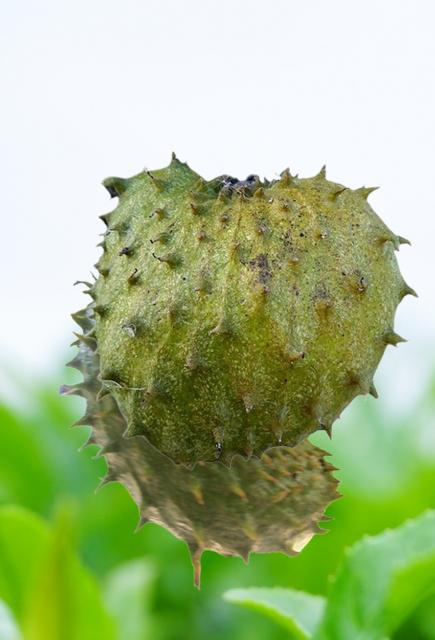guyabano: (81, 149, 418, 469), (58, 270, 343, 589)
